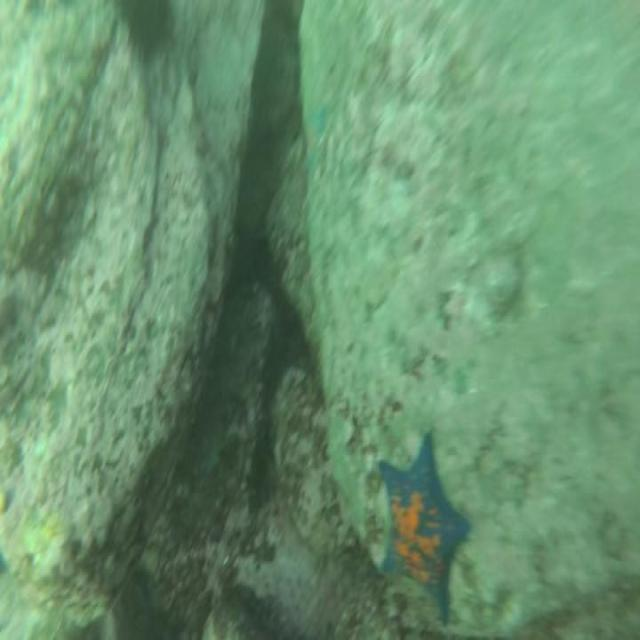echinus: (110, 0, 178, 66)
starfish: (372, 423, 474, 628)
